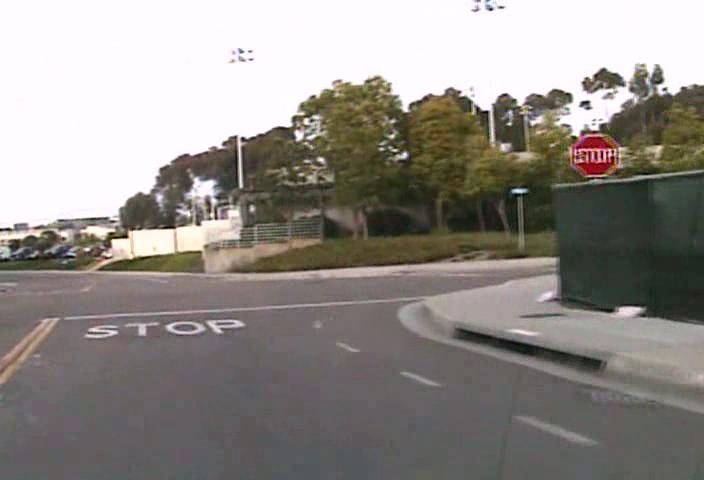stop: (570, 133, 619, 177)
